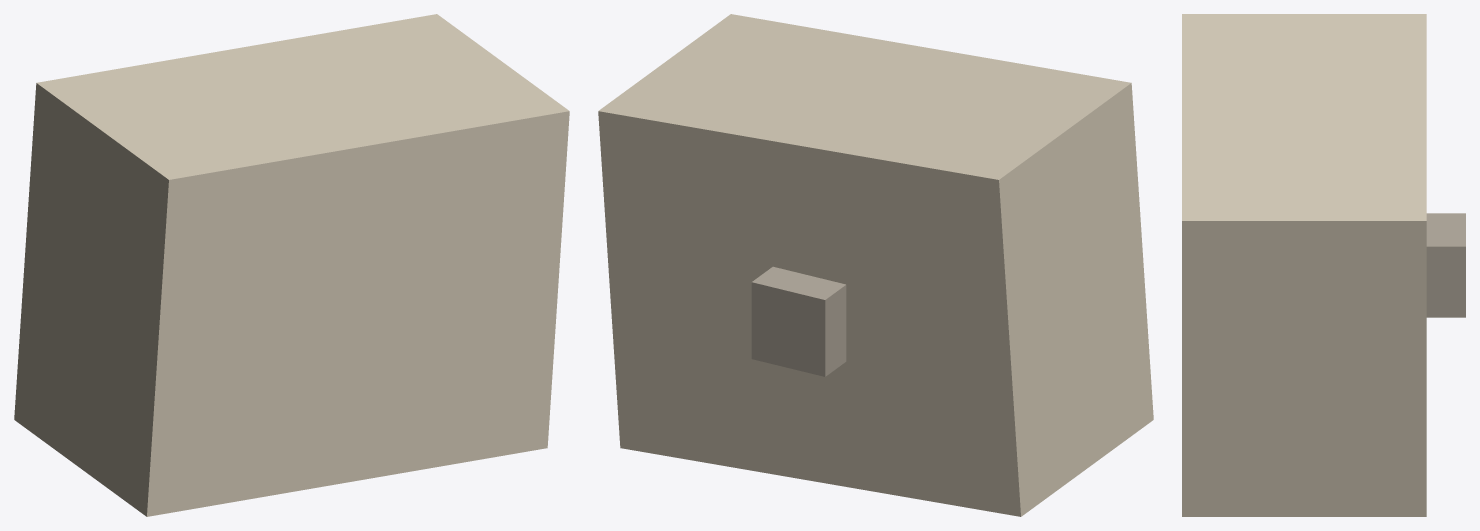
The model's file is historic-palestine-11_25_3528_3191.glb.
3 renders of one model, left to right at view 1: azimuth 30°, elevation 25°; view 2: azimuth 150°, elevation 25°; view 3: azimuth 270°, elevation 25°, orthographic. The views are drawn at different scales.
Parts seen in each view (by area): view 1: Building_; view 2: Building_, Roof access hut; view 3: Building_, Roof access hut.
Boxes of the visible parts, x1,y1,x2,y2 form: Building_: (14,14,569,516); Building_: (598,14,1153,516); Roof access hut: (751,266,846,376); Building_: (1182,14,1426,516); Roof access hut: (1426,213,1465,317).
Bounding box in the file's own units: 13.8 × 11.24 × 8.7.
